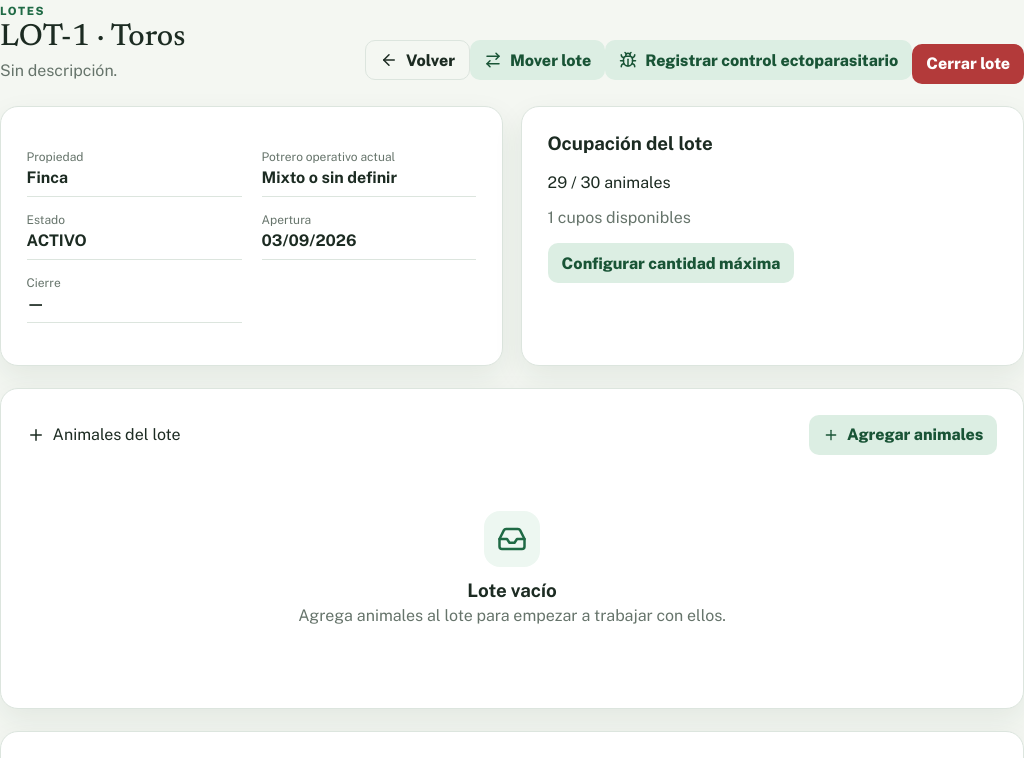
Scenario: filtra los candidatos por raza en el modal de agregar animales
Click the button "Agregar animales": (903, 435) [809,415,997,455]
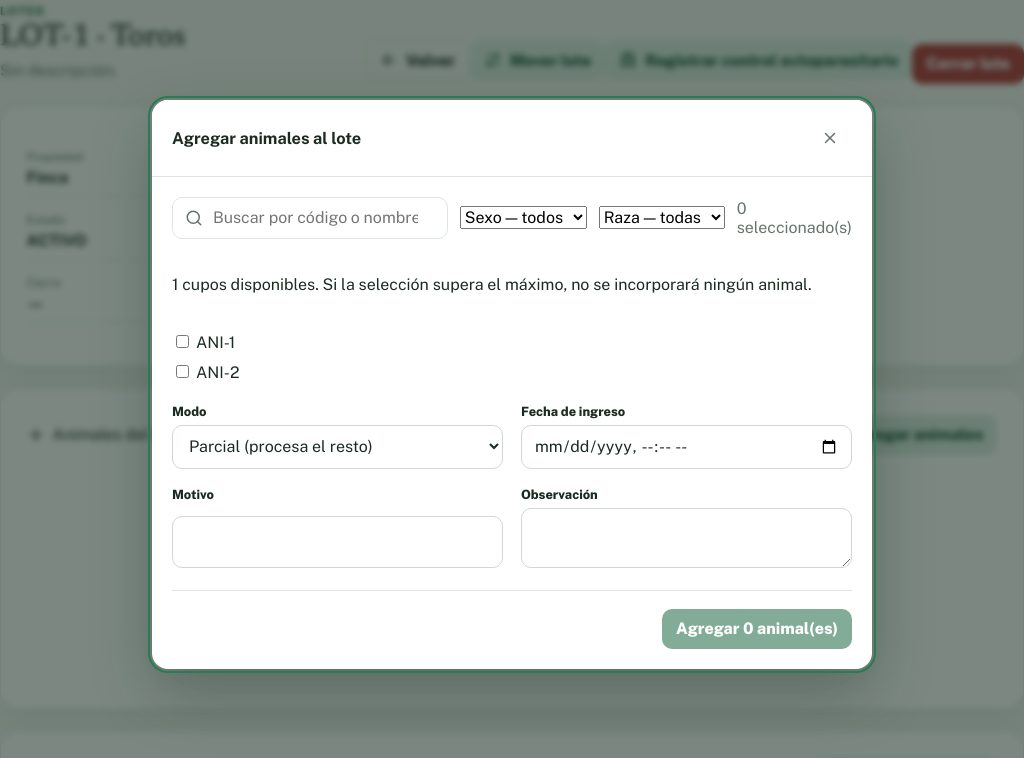
Now the checkbox labelled "ANI-1" is shown, box [176,334,189,348]
Now the checkbox labelled "ANI-2" is shown, box [176,364,189,378]
Select "Nelore" in the dropdown named "Filtrar por raza": (662, 218) [599,206,725,229]
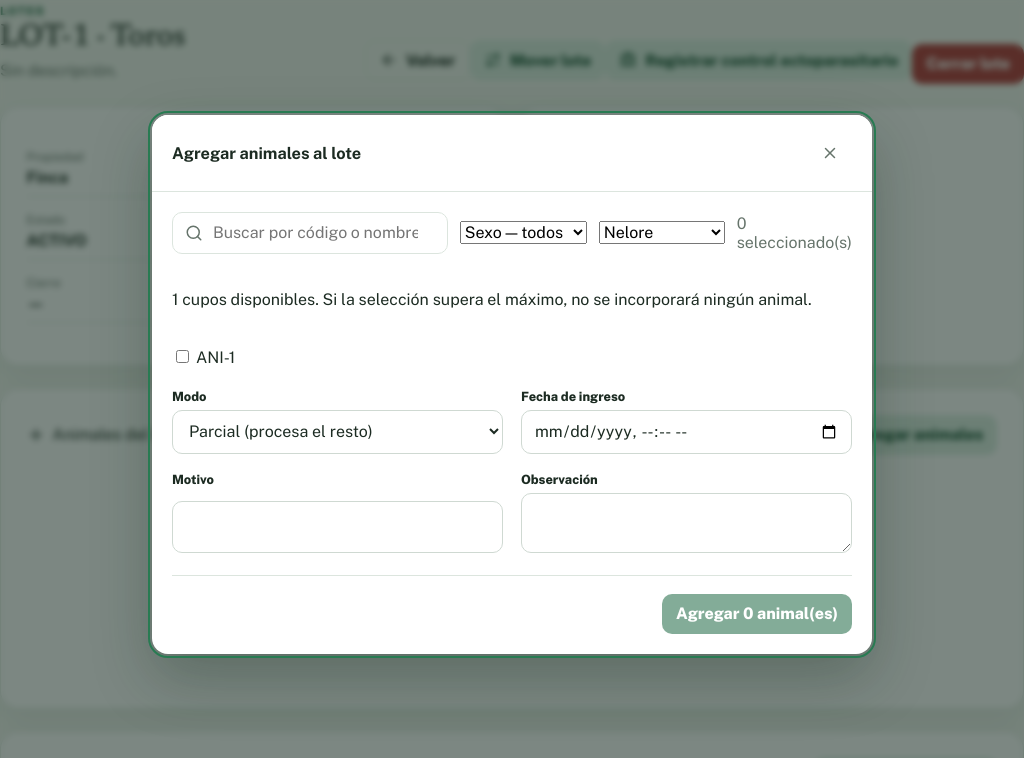
Now the checkbox labelled "ANI-1" is shown, box [176,350,189,362]
Now the label labelled "ANI-2" is gone
